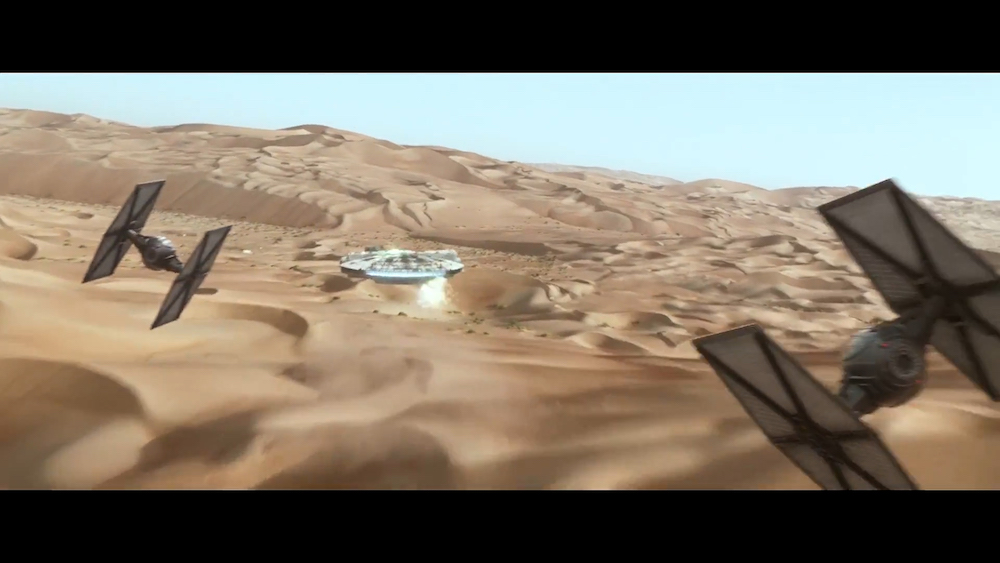Millennium Falcon: (340, 247, 465, 286)
Tie Fighter: (692, 180, 1000, 490), (81, 180, 235, 332)
